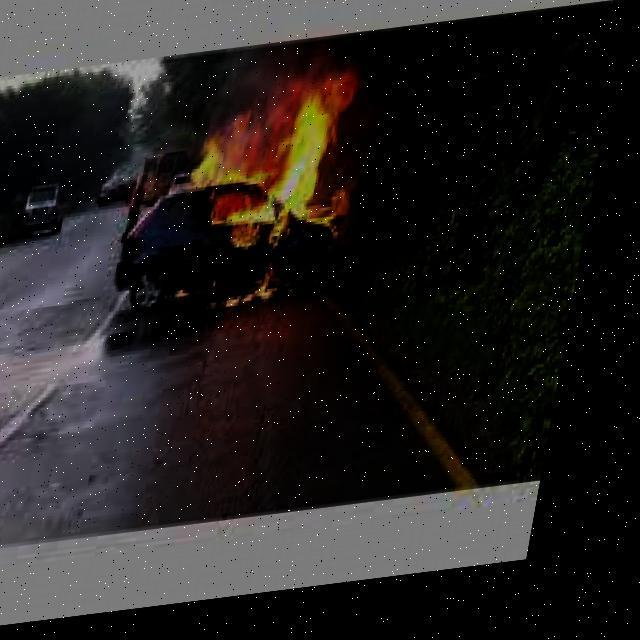Fire: (180, 69, 385, 281)
